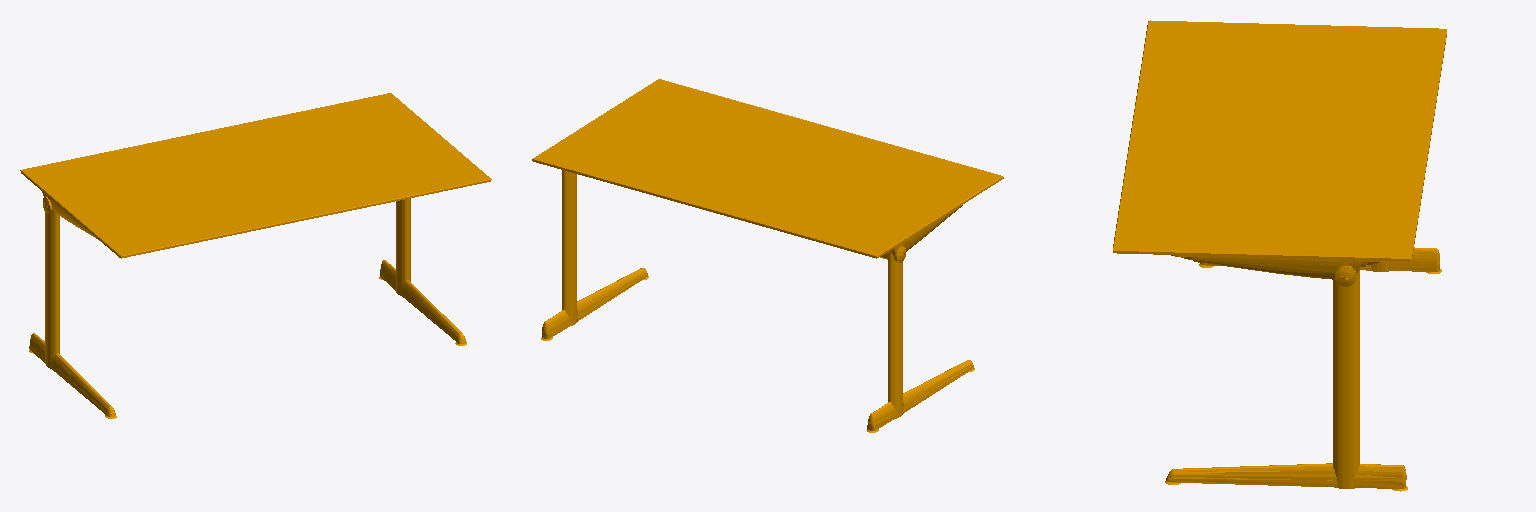
URDF robot description (04379243_ea9e7db452d2df55d42ec7e303174a87_object2):
<robot name="04379243_ea9e7db452d2df55d42ec7e303174a87_object2">
	<link name="_name">
		<visual>
			<origin xyz="2.3030476638299757 0.9237775811631712 0.6909391314694249" rpy="0.0 0.0 0.0" />
			<geometry>
				<mesh filename="04379243_ea9e7db452d2df55d42ec7e303174a87_object2.obj" />
			</geometry>
		</visual>
		<collision>
			<origin rpy="0.0 0.0 0.0" xyz="2.3030476638299757 0.9237775811631712 0.6909391314694249" />
			<geometry>
				<mesh filename="04379243_ea9e7db452d2df55d42ec7e303174a87_object2_vhacd.obj" />
			</geometry>
		</collision>
		<inertial>
			<origin rpy="0 0 0" xyz="0 0 0" />
			<mass value="1.0" />
			<inertia ixx="0.001" ixy="0.0" ixz="0.0" iyy="0.001" iyz="0.0" izz="0.001" />
		</inertial>
	</link>
</robot>

--- Render facts (derived) ---
3 views of the same robot in one strip: view 1: azimuth 30°, elevation 25°; view 2: azimuth 150°, elevation 25°; view 3: azimuth 270°, elevation 25° (orthographic).
Model 04379243_ea9e7db452d2df55d42ec7e303174a87_object2 with 1 links and 0 joints (none), rooted at _name, posed all joints at 0.
Links seen in each view (by area): view 1: _name; view 2: _name; view 3: _name.
Link boxes in pixels (x1=…): _name: x1=20, y1=93, x2=491, y2=418; _name: x1=532, y1=79, x2=1003, y2=432; _name: x1=1113, y1=20, x2=1446, y2=491.
Size in the robot's own frame: 1.4 by 0.8325 by 0.6491 metres.
1 mesh visuals loaded from 1 distinct referenced files (1 OBJ).
